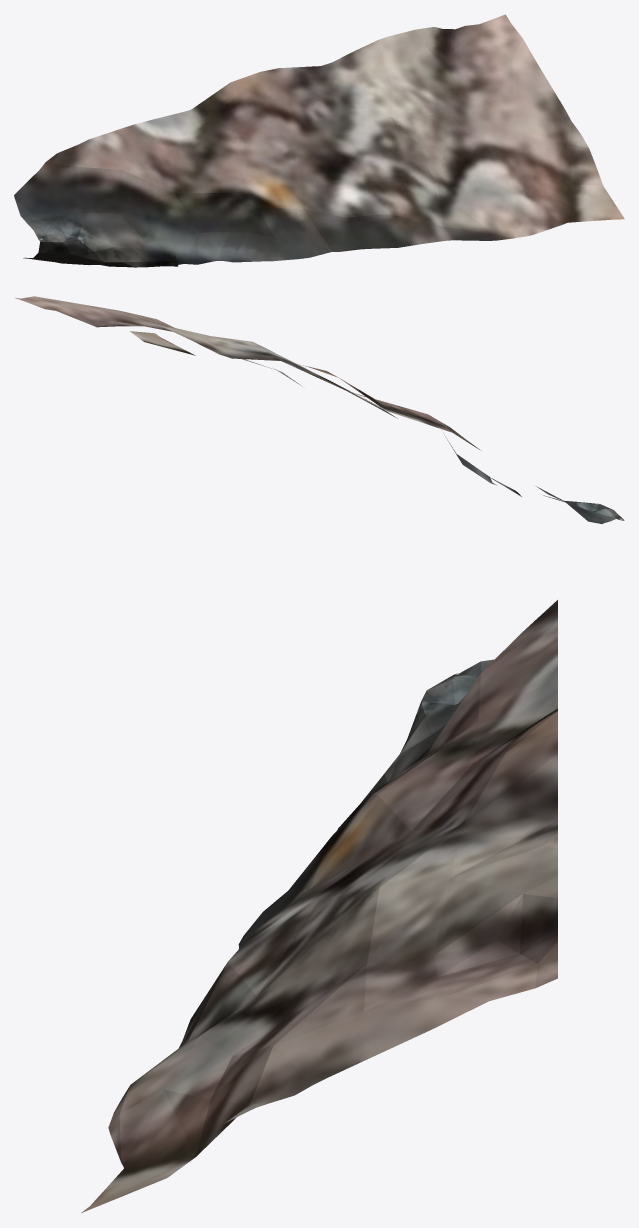
3 views of the same model, one above another, from view 1: azimuth 30°, elevation 25°; view 2: azimuth 150°, elevation 25°; view 3: azimuth 270°, elevation 25° (orthographic). The views are drawn at different scales.
Bounding box in the file's own units: 0.8374 × 0.2026 × 0.352.
1 material, 1 textured.
